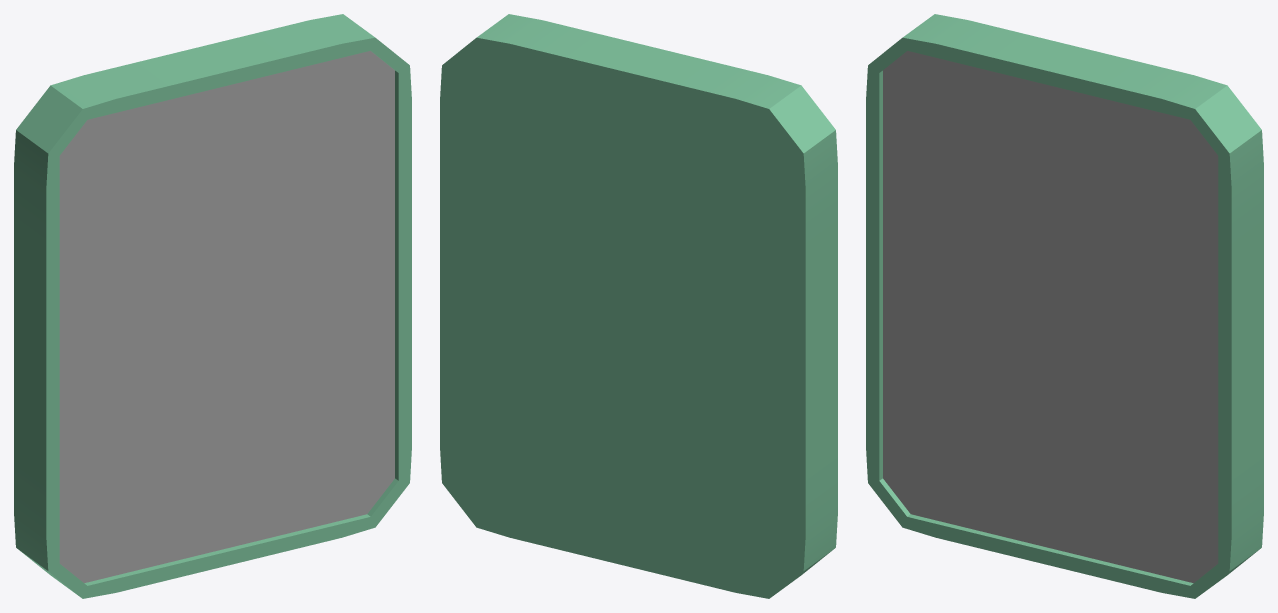
The model's file is Bathroom_Mirror_01.fbx.
3 renders of one model, left to right at view 1: azimuth 30°, elevation 25°; view 2: azimuth 150°, elevation 25°; view 3: azimuth 330°, elevation 25°, orthographic.
Visible parts, largest first — view 1: Bathroom_Mirror_01; view 2: Bathroom_Mirror_01; view 3: Bathroom_Mirror_01.
Part boxes in pixels (<box>): Bathroom_Mirror_01: <box>14,14,411,598</box>; Bathroom_Mirror_01: <box>440,14,837,598</box>; Bathroom_Mirror_01: <box>866,14,1263,598</box>.
Size of the model in its own units: 2.34 by 3.02 by 0.3583.
